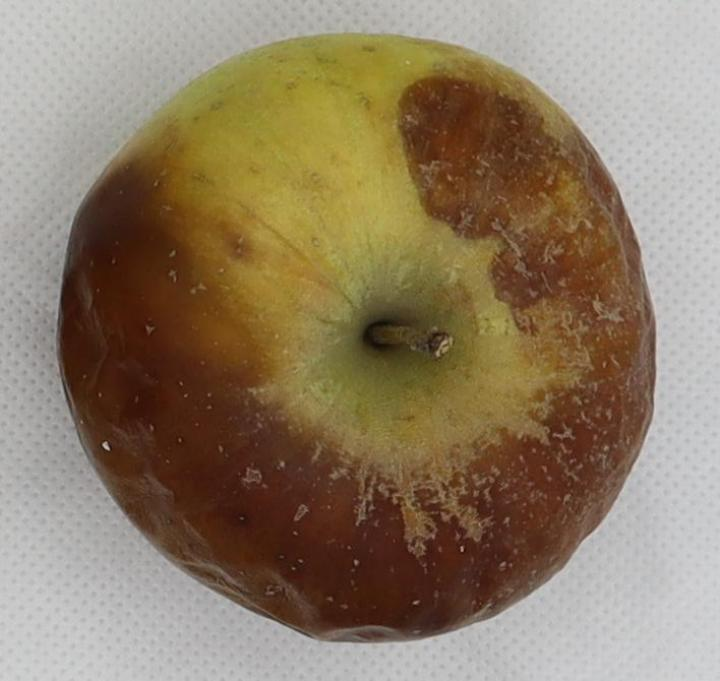apple: (59, 35, 654, 641)
rot_mold_decay: (60, 76, 654, 640)
